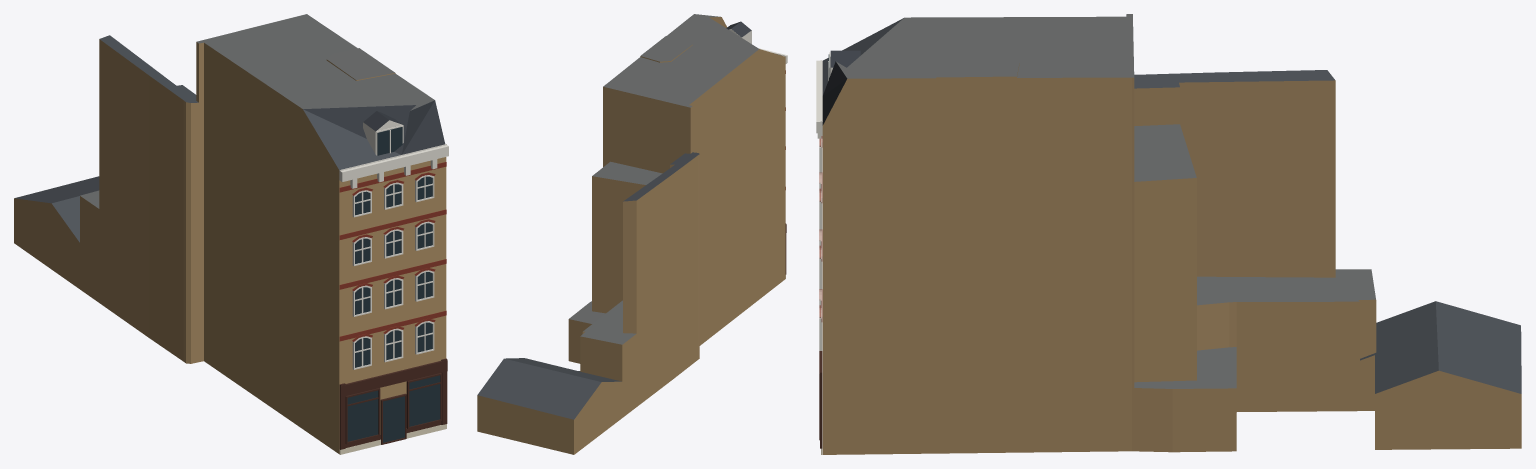
File: recipe-bilder-079721.glb
3 views of the same model, side by side, from view 1: azimuth 30°, elevation 25°; view 2: azimuth 150°, elevation 25°; view 3: azimuth 270°, elevation 25° (orthographic). The views are drawn at different scales.
Visible parts, largest first — view 1: bilder-079721; view 2: bilder-079721; view 3: bilder-079721.
Part boxes in pixels (<box>): bilder-079721: <box>14,14,448,454</box>; bilder-079721: <box>477,14,787,454</box>; bilder-079721: <box>816,14,1521,454</box>.
Bounding box in the file's own units: 7.9 × 18.02 × 30.63.
